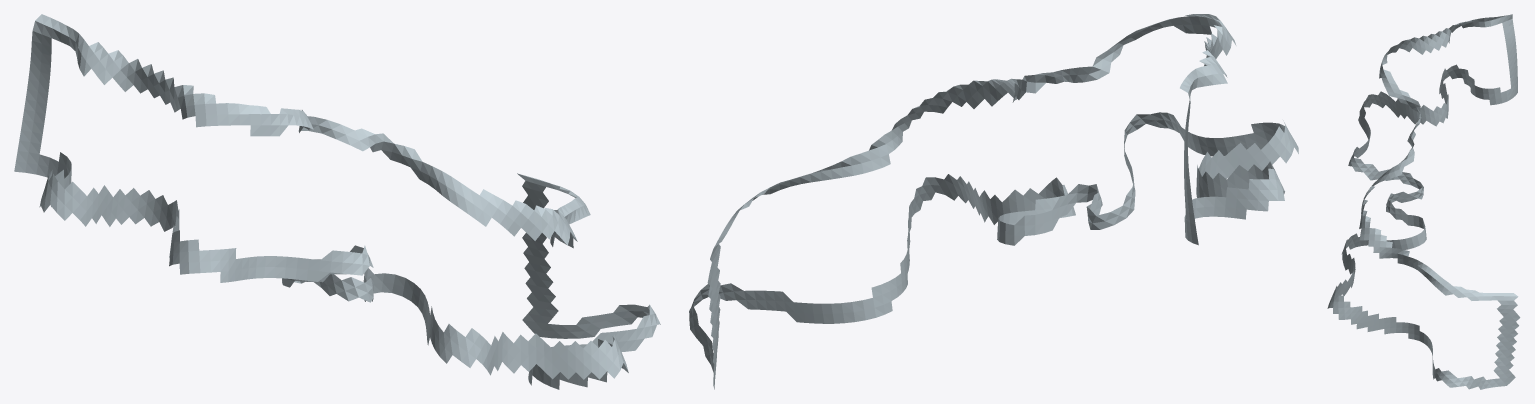
File: selected_mesh6.obj
3 views of the same model, side by side, from view 1: azimuth 30°, elevation 25°; view 2: azimuth 150°, elevation 25°; view 3: azimuth 270°, elevation 25° (orthographic). The views are drawn at different scales.
Size of the model in its own units: 0.9153 by 0.6223 by 0.4527.
